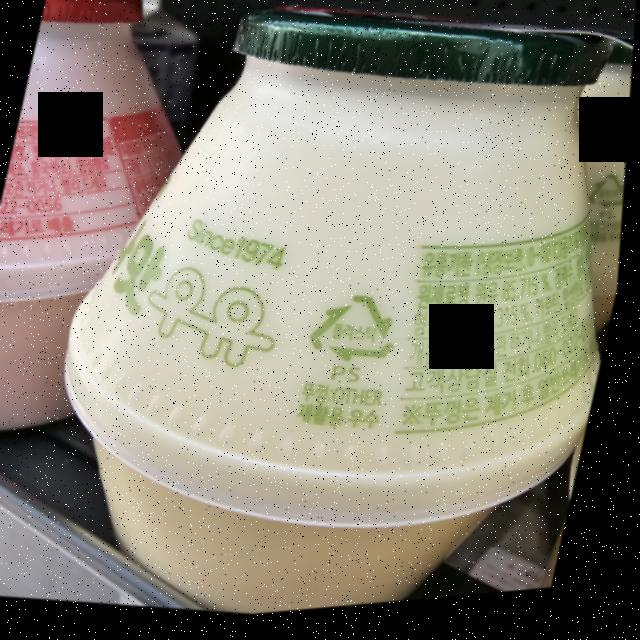Plastic: (304, 289, 411, 381)
